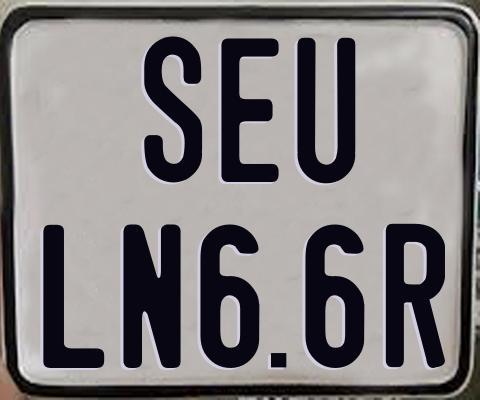6: (302, 223, 368, 370), (198, 221, 258, 368)
E: (218, 36, 277, 186)
L: (40, 223, 106, 368)
N: (121, 223, 180, 373)
R: (384, 222, 449, 371)
S: (142, 33, 206, 184)
U: (296, 37, 356, 188)
